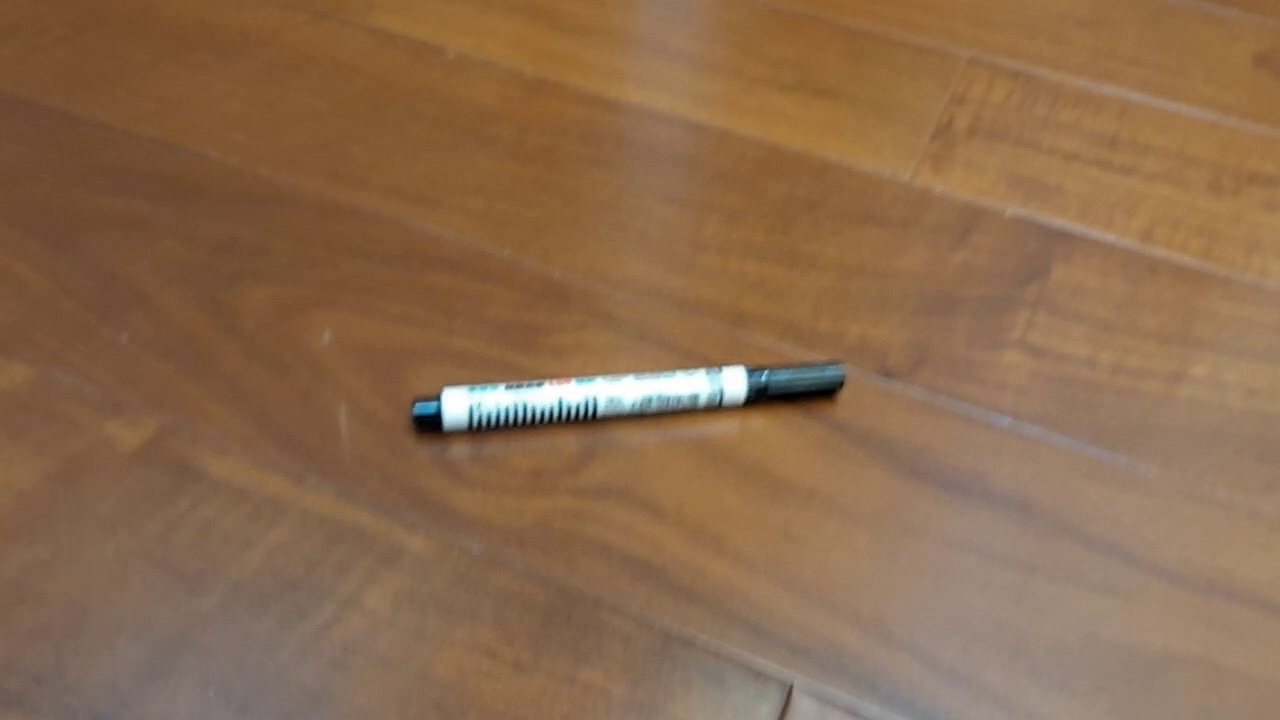pen: (410, 358, 847, 436)
